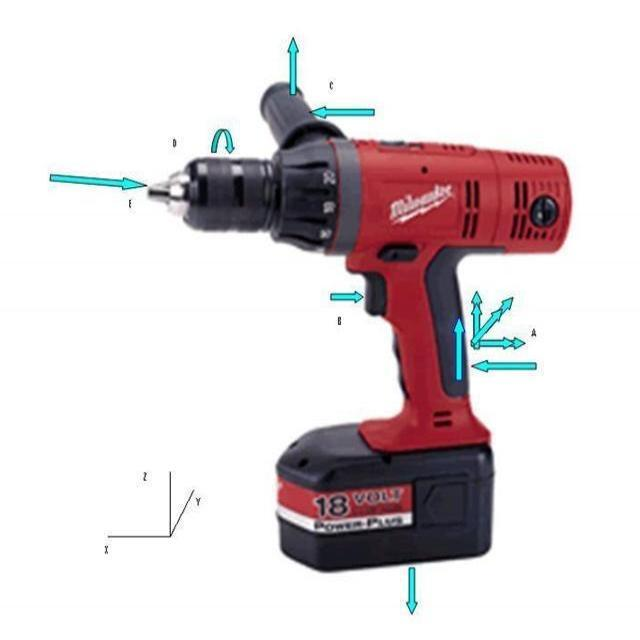drill: (145, 81, 572, 574)
